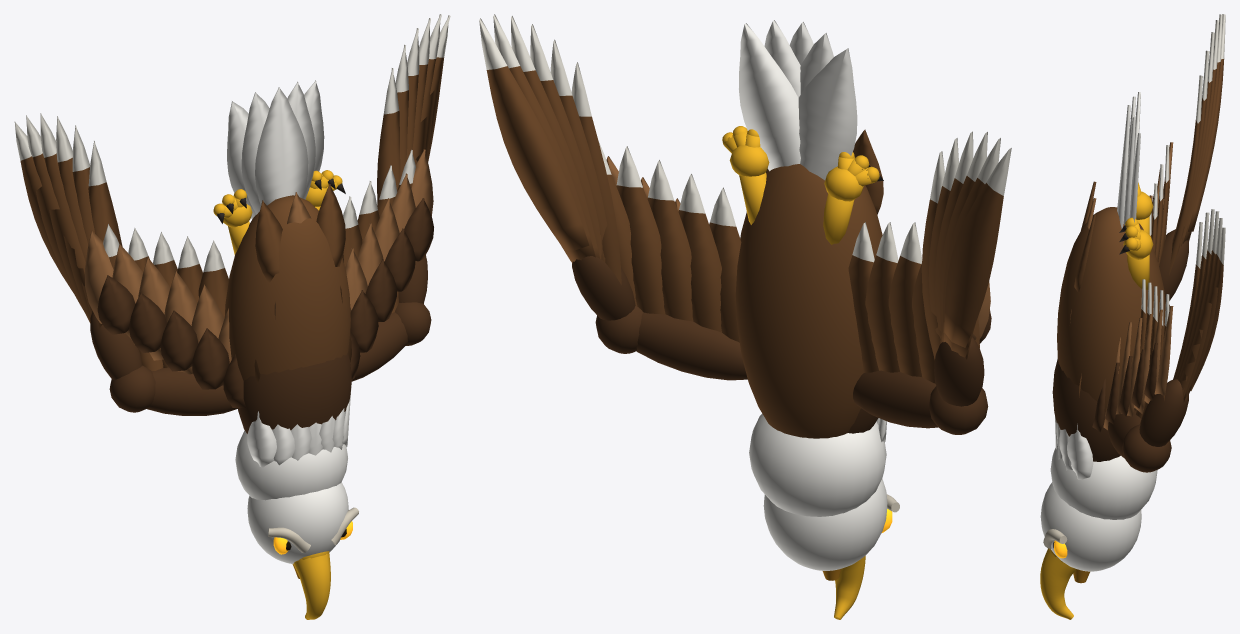
Rendered from eagle.glb.
The picture shows the model from 3 angles, left to right: view 1: azimuth 30°, elevation 25°; view 2: azimuth 150°, elevation 25°; view 3: azimuth 270°, elevation 25°; orthographic projection. The views are drawn at different scales.
Parts seen in each view (by area): view 1: eagle; view 2: eagle; view 3: eagle.
Part boxes in pixels (<box>): eagle: <box>14,14,450,619</box>; eagle: <box>479,14,1011,619</box>; eagle: <box>1040,14,1225,619</box>.
Bounding box in the file's own units: 0.8909 × 1 × 0.3266.
